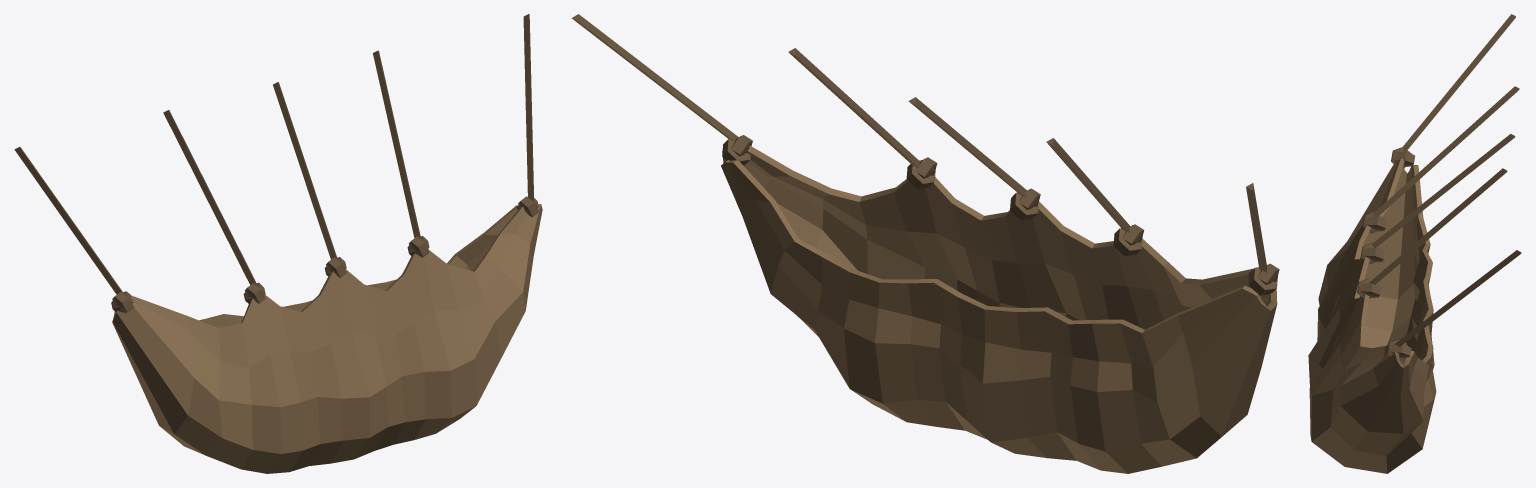
Rendered from SM_Veh_Extra_Cargo_01.glb.
3 views of the same model, side by side, from view 1: azimuth 30°, elevation 25°; view 2: azimuth 150°, elevation 25°; view 3: azimuth 270°, elevation 25° (orthographic). The views are drawn at different scales.
Visible parts, largest first — view 1: SM_Veh_Extra_Cargo_01; view 2: SM_Veh_Extra_Cargo_01; view 3: SM_Veh_Extra_Cargo_01.
Boxes of the visible parts, bbox=[...] form: SM_Veh_Extra_Cargo_01: bbox=[14, 14, 542, 473]; SM_Veh_Extra_Cargo_01: bbox=[571, 14, 1279, 473]; SM_Veh_Extra_Cargo_01: bbox=[1308, 14, 1521, 473].
Size of the model in its own units: 0.0472 by 0.0286 by 0.0174.
1 material, 1 textured.
